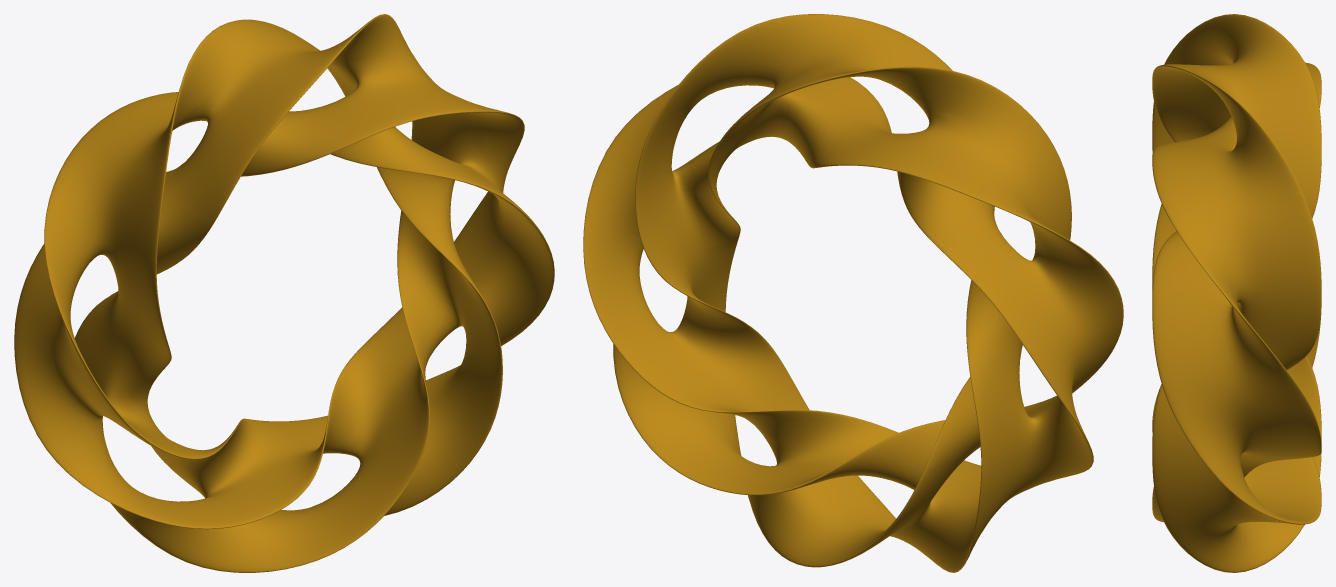
Rendered from abstract_gold_ring.glb.
The picture shows the model from 3 angles, left to right: view 1: azimuth 30°, elevation 25°; view 2: azimuth 150°, elevation 25°; view 3: azimuth 270°, elevation 25°; orthographic projection. The views are drawn at different scales.
Visible parts, largest first — view 1: Plane001_01 - Default_0; view 2: Plane001_01 - Default_0; view 3: Plane001_01 - Default_0.
Part boxes in pixels (<box>): Plane001_01 - Default_0: <box>14,14,554,572</box>; Plane001_01 - Default_0: <box>583,14,1123,572</box>; Plane001_01 - Default_0: <box>1152,14,1321,572</box>.
Size of the model in its own units: 6.34 by 6.34 by 2.02.
